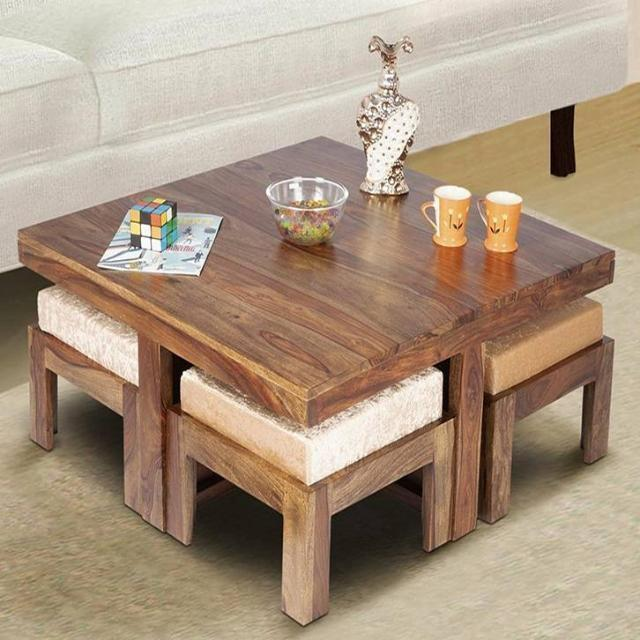obstacle: (27, 138, 631, 606)
